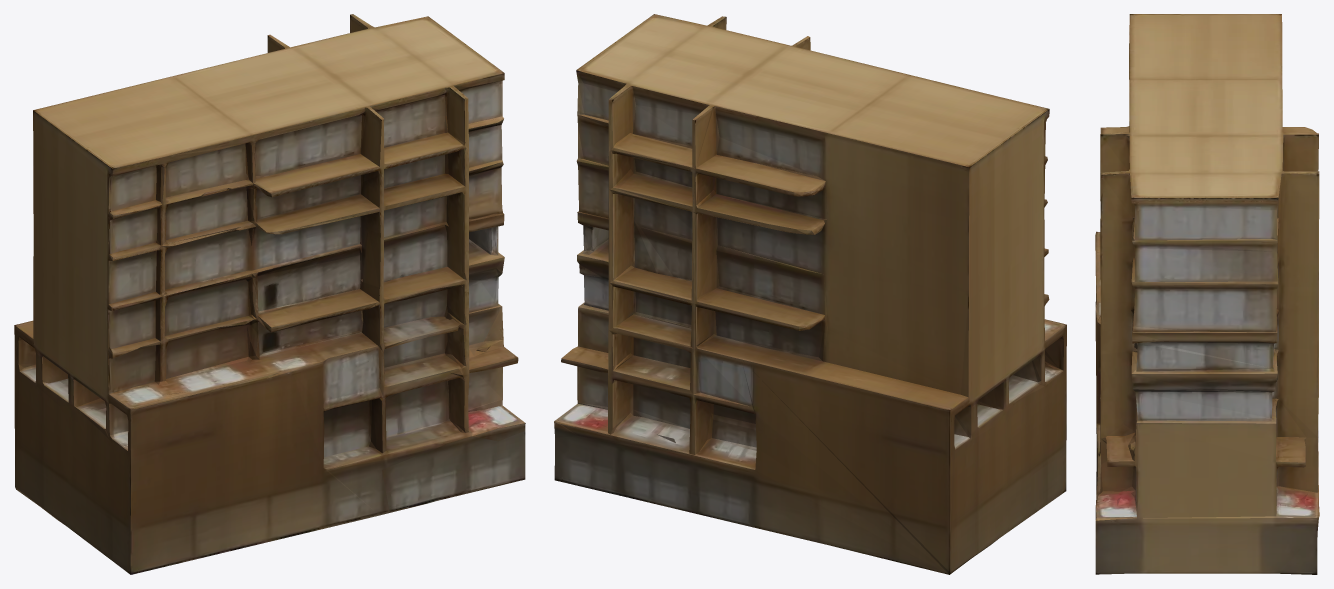
The picture shows the model from 3 angles, left to right: view 1: azimuth 30°, elevation 25°; view 2: azimuth 150°, elevation 25°; view 3: azimuth 270°, elevation 25°; orthographic projection. The views are drawn at different scales.
Parts seen in each view (by area): view 1: geometry_0; view 2: geometry_0; view 3: geometry_0.
Boxes of the visible parts, box(x1,y1,x2,y2) form: geometry_0: box(14, 14, 525, 574); geometry_0: box(554, 14, 1066, 574); geometry_0: box(1095, 14, 1319, 574).
Size of the model in its own units: 0.4856 by 0.4641 by 0.2499.
Materials: 1 (1 with a texture image).
